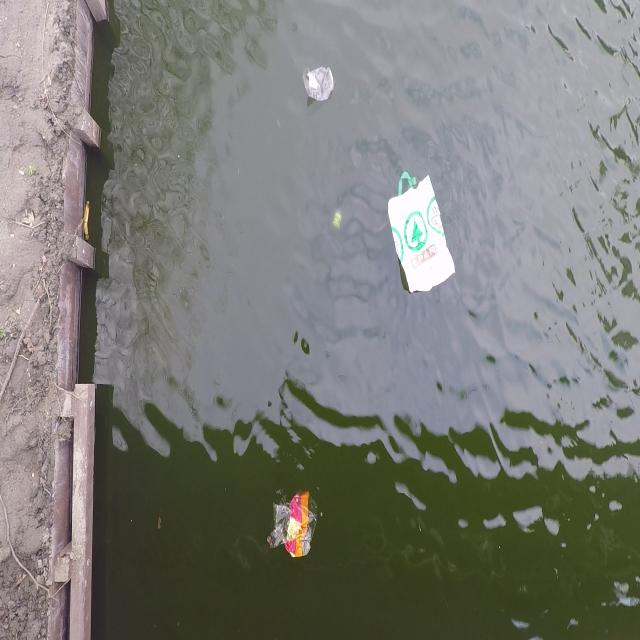Sac plastique: (382, 162, 462, 306), (265, 488, 324, 569), (300, 57, 338, 109)
